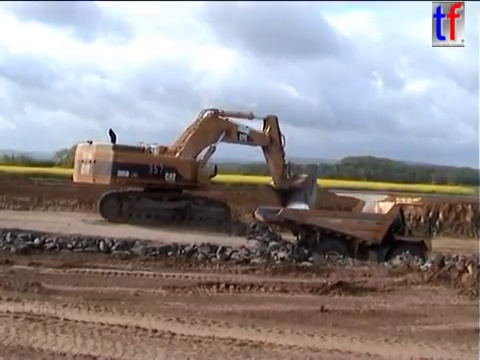excavator: (69, 105, 319, 228)
truck: (251, 193, 441, 284)
